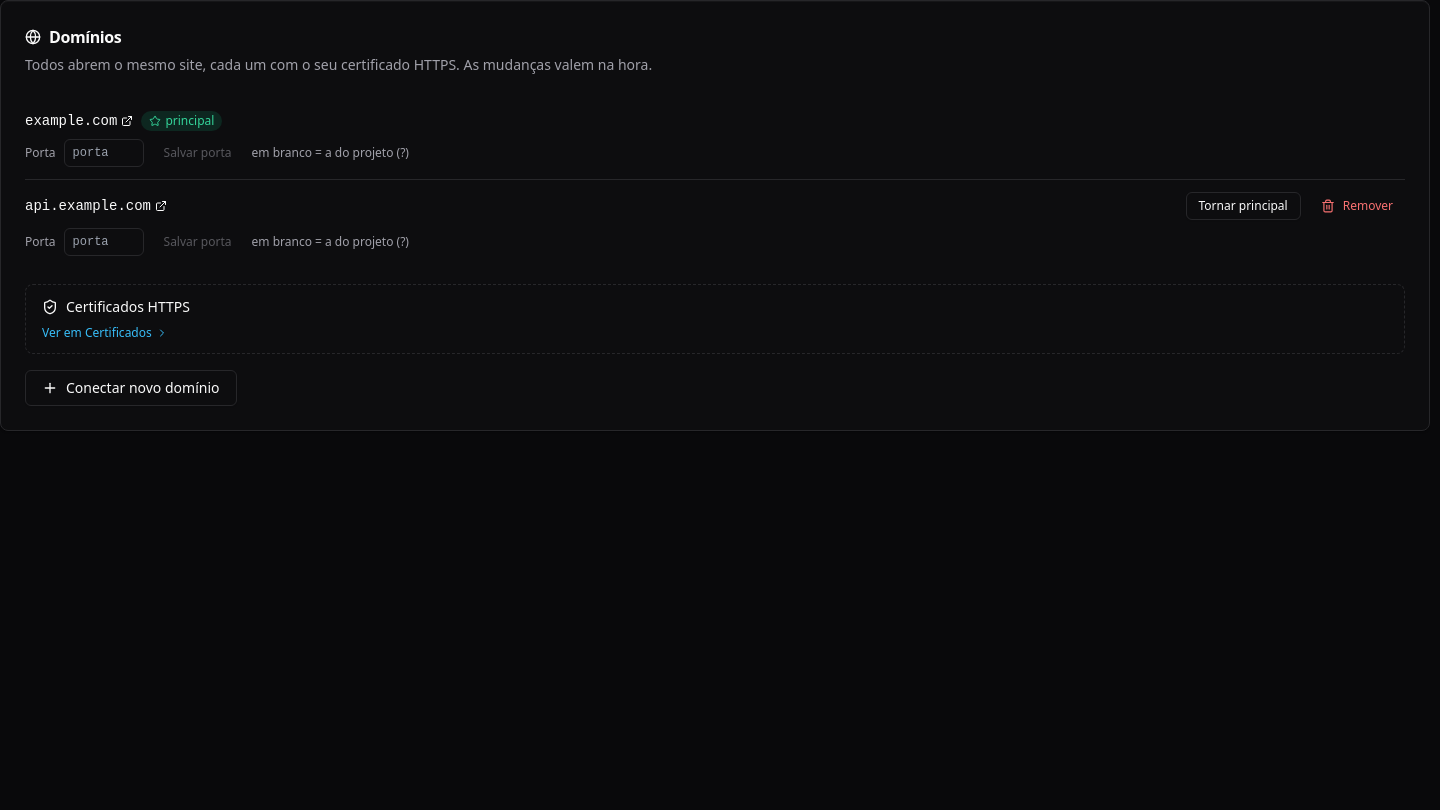
Test case: subdomínio só com o rótulo › com o domínio pai escolhido, mostra a prévia e envia rótulo + pai
The image size is (1440, 810).
Click the button "Conectar novo domínio".
click(131, 388)  # box x1=25 y1=370 x2=236 y2=406
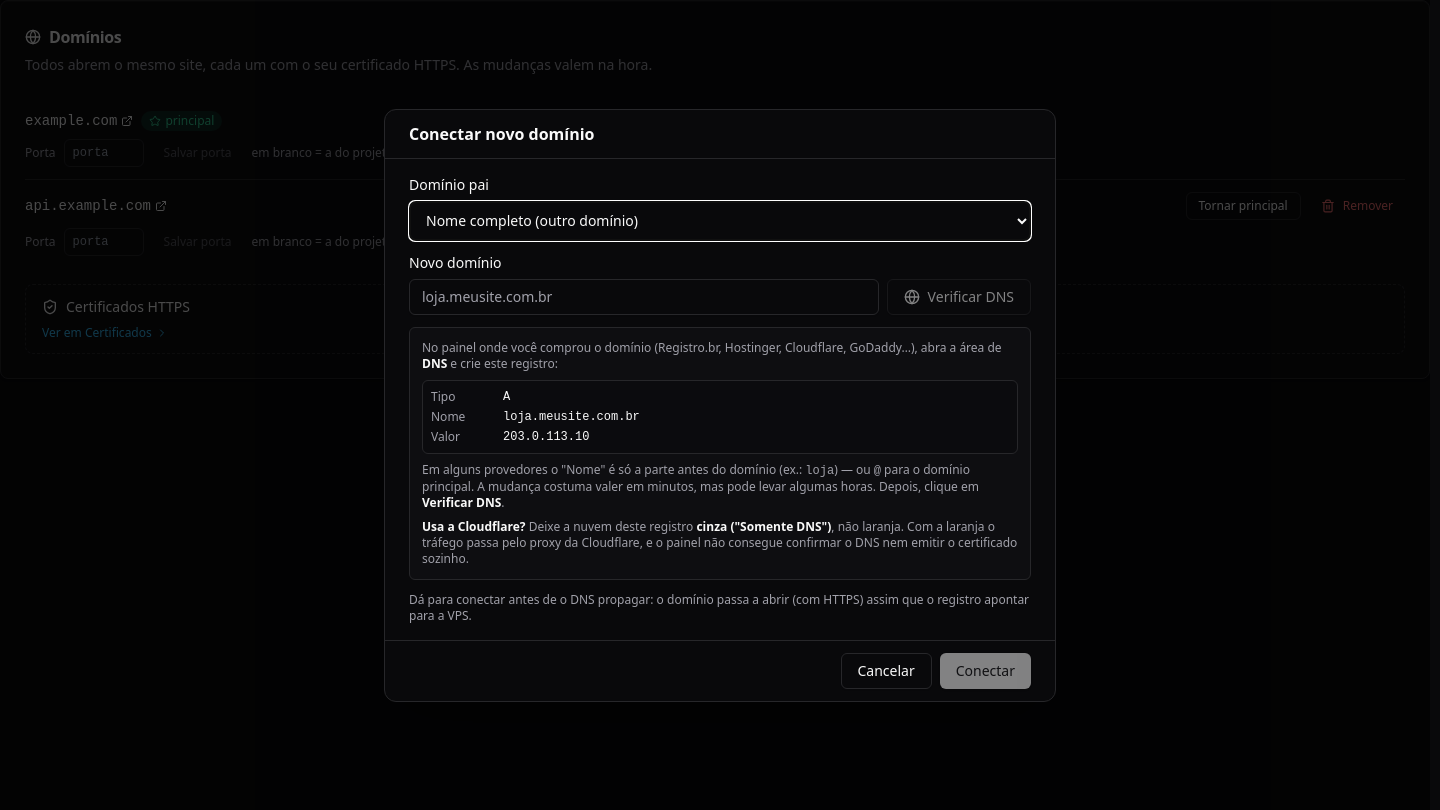
Check: the dialog with test id "modal-panel" is shown, box x1=384 y1=108 x2=1056 y2=702
Select "example.com" in the dropdown labelled "Domínio pai" at point(720, 220), box x1=409 y1=200 x2=1031 y2=240
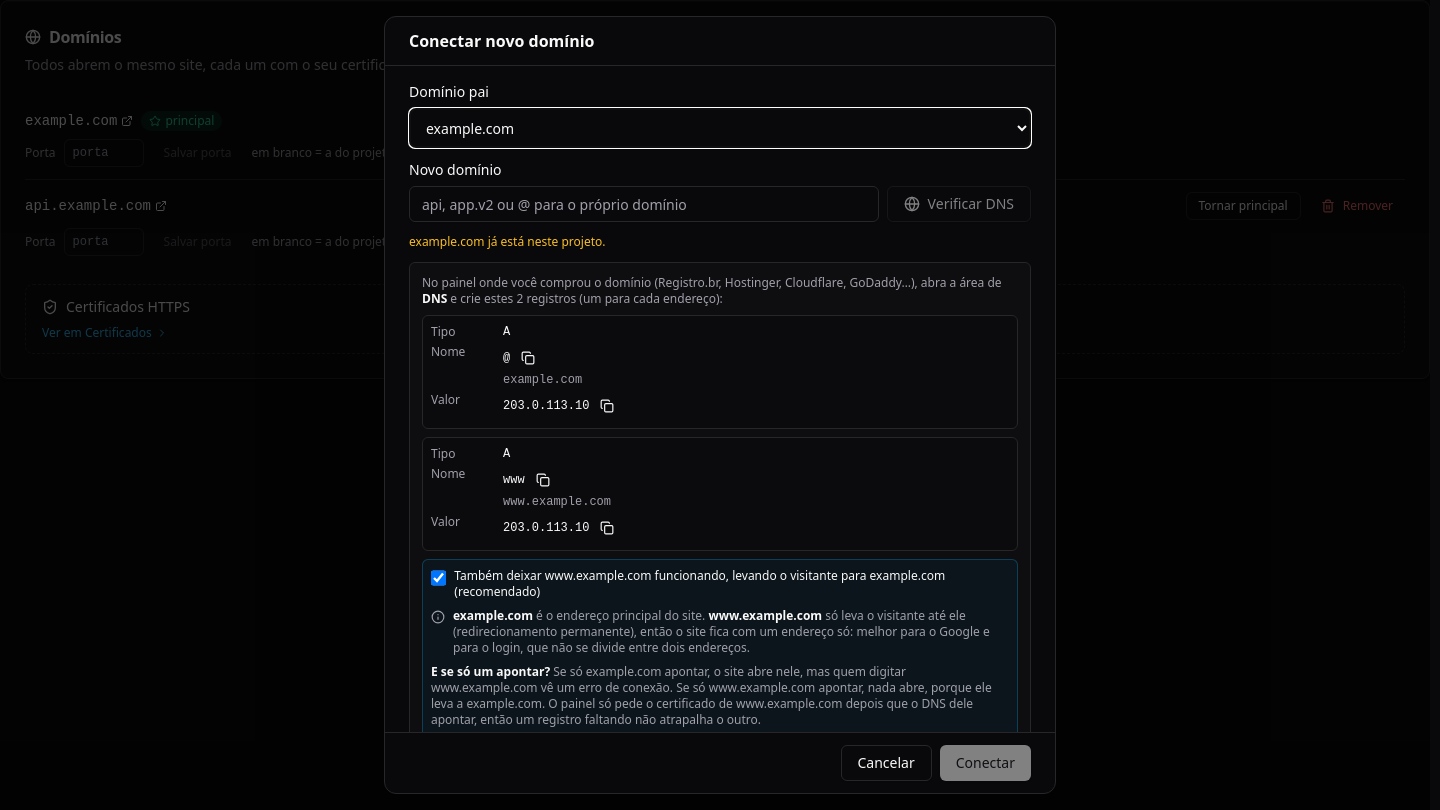
Type "App.V2" into the field labelled "Novo domínio Verificar DNS".
click(644, 204); type("App.V2")  # box x1=409 y1=186 x2=879 y2=222
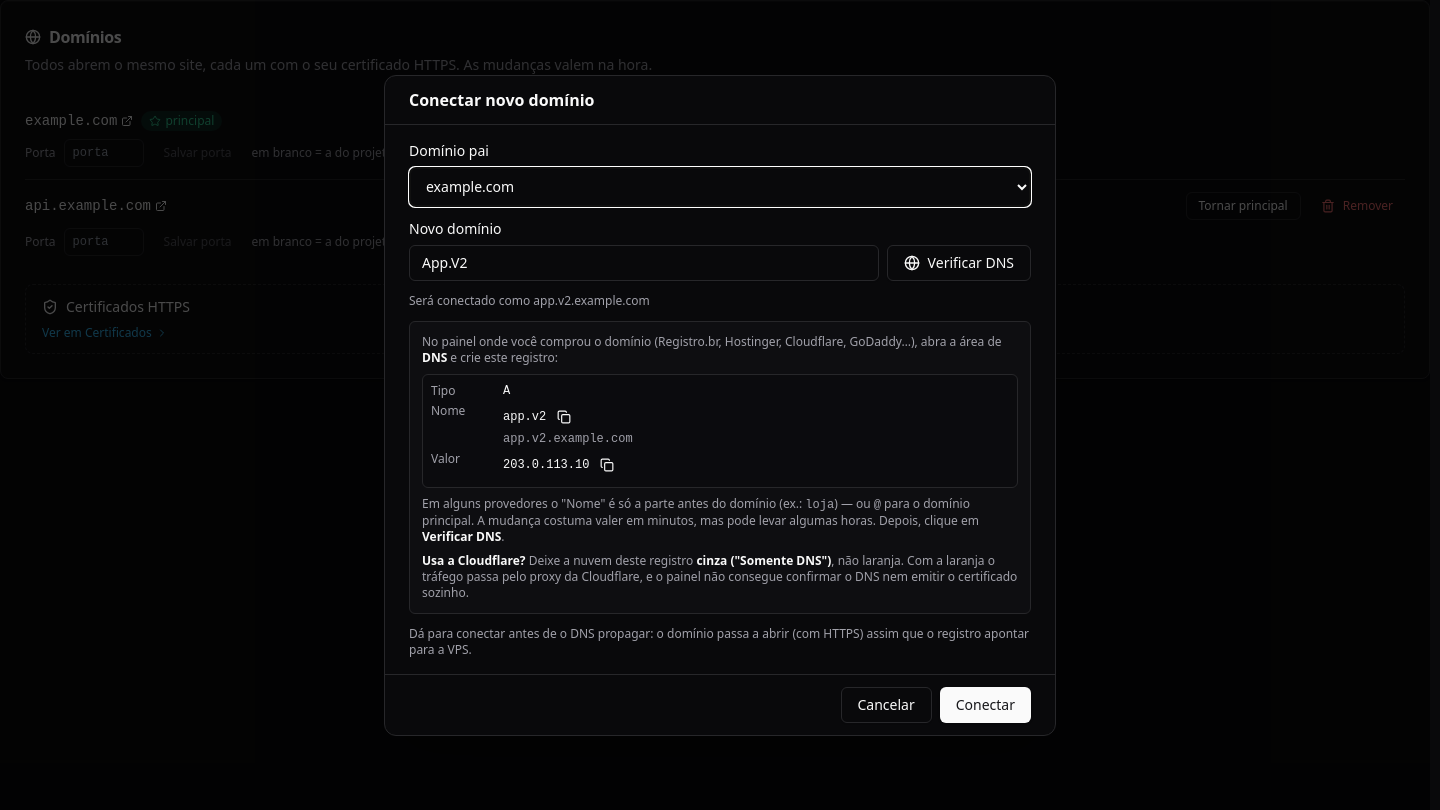
Check: the text with test id "domain-preview" reads "Será conectado como app.v2.example.com", box x1=409 y1=292 x2=650 y2=308
Click the button "Conectar".
click(985, 704)  # box x1=940 y1=686 x2=1031 y2=722
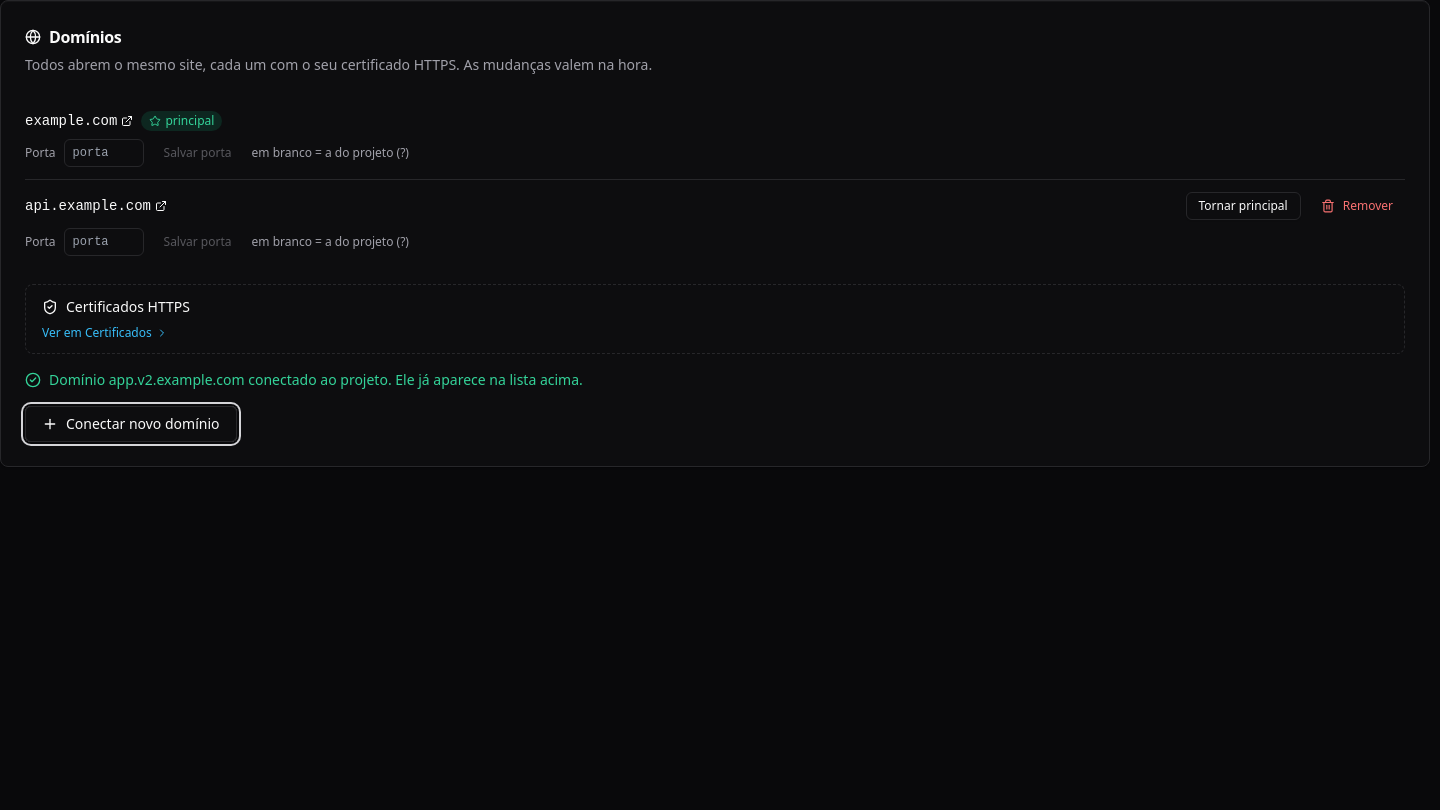
Check: the dialog with test id "modal-panel" is gone
Check: the message shows "app.v2.example.com", box x1=49 y1=370 x2=583 y2=389
